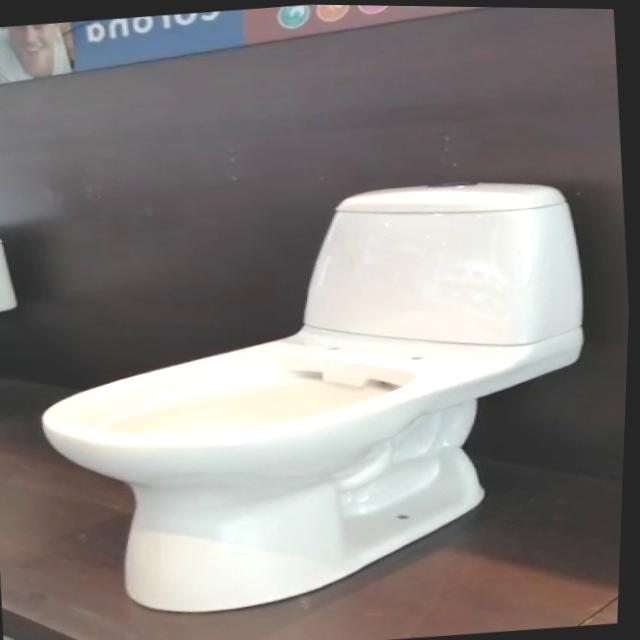toilet: (20, 164, 617, 629)
